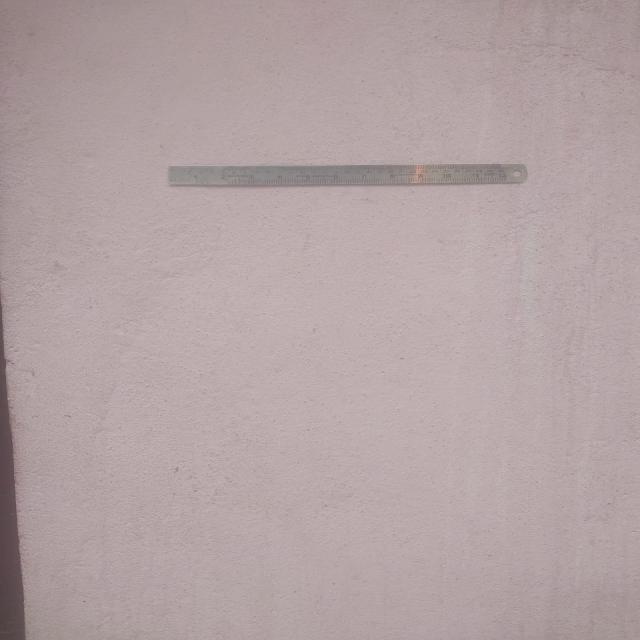scale: (167, 163, 525, 187)
